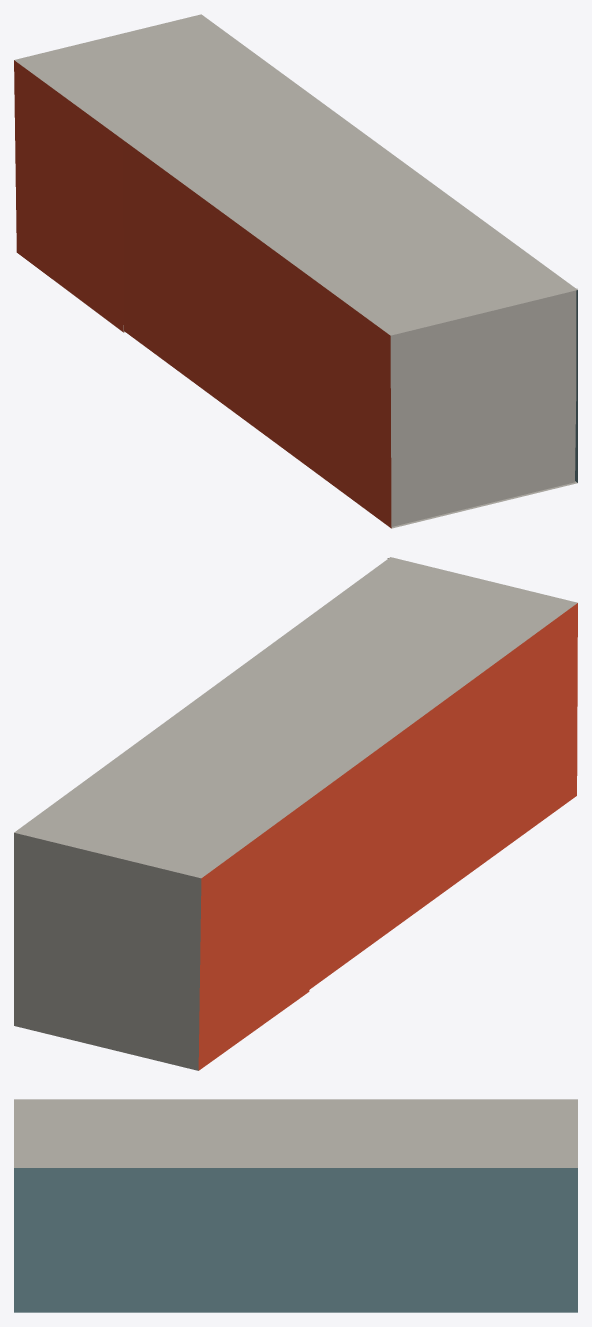
The model's file is cornell_double.obj.
The picture shows the model from 3 angles, top to bottom: view 1: azimuth 30°, elevation 25°; view 2: azimuth 150°, elevation 25°; view 3: azimuth 270°, elevation 25°; orthographic projection. The views are drawn at different scales.
Visible parts, largest first — view 1: leftWall, ceiling.004, backWall; view 2: leftWall, ceiling.004, backWall; view 3: rightWall, ceiling.004.
Boxes of the visible parts, box(x1,y1,x2,y2) form: leftWall: box(14, 60, 391, 528); ceiling.004: box(14, 14, 577, 335); backWall: box(390, 288, 577, 526); leftWall: box(198, 603, 577, 1070); ceiling.004: box(14, 557, 577, 878); backWall: box(14, 558, 388, 1070); rightWall: box(14, 1168, 577, 1312); ceiling.004: box(14, 1099, 577, 1167).
Size of the model in its own units: 2.03 by 1.99 by 7.03.
